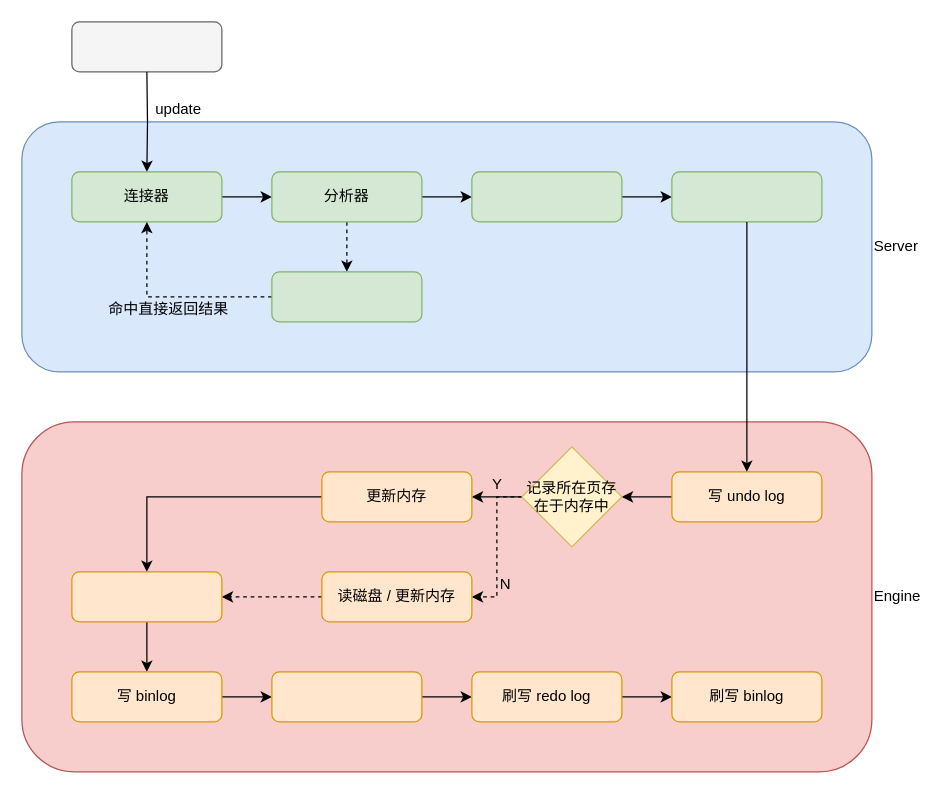
The diagram is 943 pixels wide and 794 high, and some of its shapes have lost their labels. Each missing label, with the centre of its shape:
Client: point 146,46
优化器: point 546,196
写 redo log: point 146,596
执行器: point 746,196
提交事务: point 346,696
查询缓存: point 346,296
